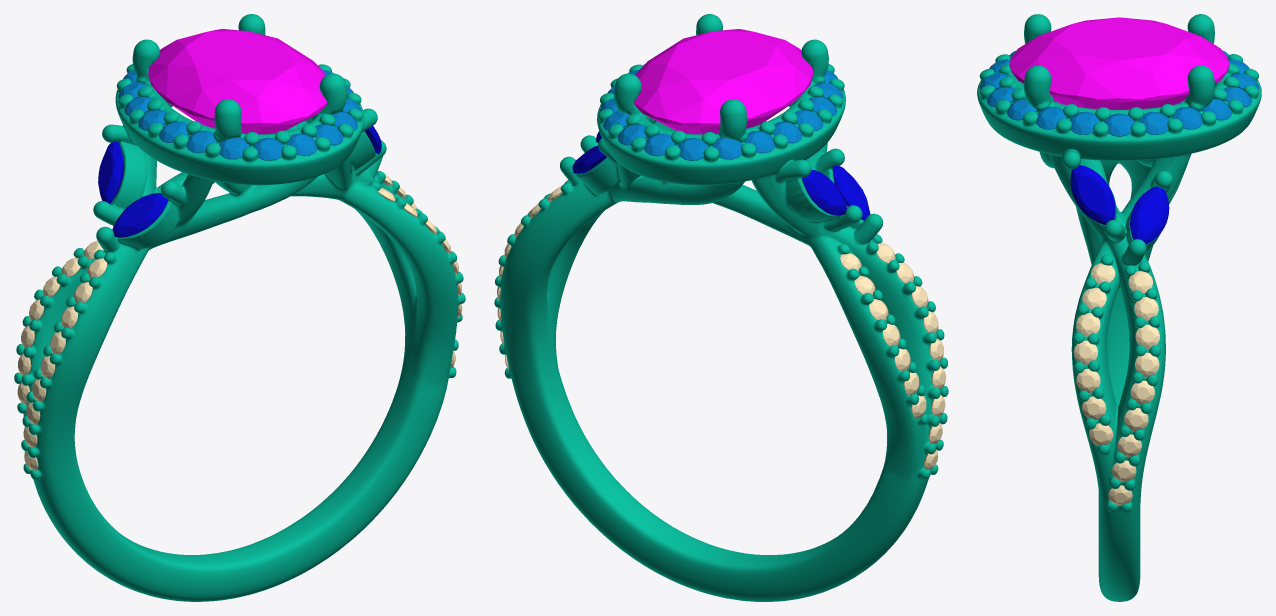
The model's file is BE104H_OV_200ct_RENDER.glb.
3 renders of one model, left to right at view 1: azimuth 30°, elevation 25°; view 2: azimuth 150°, elevation 25°; view 3: azimuth 270°, elevation 25°, orthographic.
Visible parts, largest first — view 1: Metal 01, CS_Diamond_Oval, Diamond_Marquise_side, Diamond_Marquise_side.001; view 2: Metal 01, CS_Diamond_Oval, Diamond_Marquise_side.001, Diamond_Marquise_side; view 3: Metal 01, CS_Diamond_Oval, Diamond_Marquise_side.003, Diamond_Marquise_side.002, Diamond_Round_Gem_HD.005, Diamond_Round_Gem_HD.006, Diamond_Round_Gem_HD.004, Diamond_Round_Gem_HD.007, Diamond_Round_Gem_HD.003, Diamond_Round_Gem_SH.019, Diamond_Round_Gem_SH.020, Diamond_Round_Gem_SH.021 (+14 smaller).
Part boxes in pixels (x1,y1,x2,y2): Metal 01: [14, 14, 465, 601]; CS_Diamond_Oval: [148, 29, 327, 134]; Diamond_Marquise_side: [112, 193, 168, 237]; Diamond_Marquise_side.001: [98, 141, 123, 203]; Metal 01: [494, 14, 948, 601]; CS_Diamond_Oval: [634, 29, 812, 134]; Diamond_Marquise_side.001: [802, 170, 846, 215]; Diamond_Marquise_side: [832, 165, 870, 220]; Metal 01: [977, 14, 1261, 601]; CS_Diamond_Oval: [1009, 17, 1228, 109]; Diamond_Marquise_side.003: [1070, 164, 1115, 224]; Diamond_Marquise_side.002: [1130, 186, 1169, 244]; Diamond_Round_Gem_HD.005: [1104, 113, 1134, 136]; Diamond_Round_Gem_HD.006: [1069, 111, 1099, 134]; Diamond_Round_Gem_HD.004: [1139, 111, 1169, 134]; Diamond_Round_Gem_HD.007: [1036, 107, 1066, 129]; Diamond_Round_Gem_HD.003: [1172, 107, 1202, 129]; Diamond_Round_Gem_SH.019: [1135, 324, 1159, 348]; Diamond_Round_Gem_SH.020: [1135, 352, 1159, 376]; Diamond_Round_Gem_SH.021: [1076, 368, 1100, 392].
Size of the model in its own units: 20.68 by 24.45 by 11.68.
